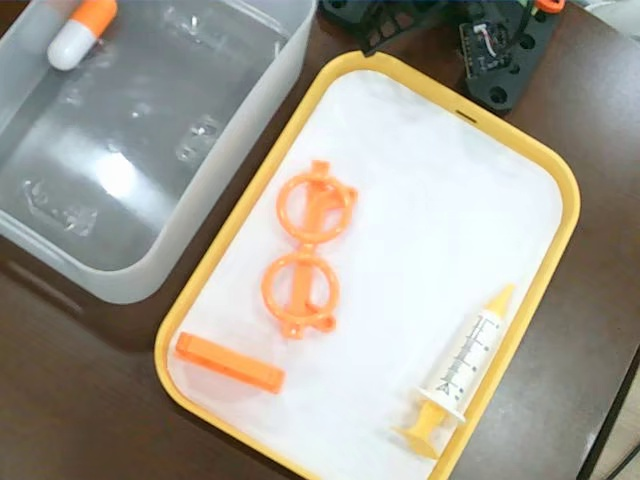pill: (47, 0, 120, 70)
syringe: (390, 278, 518, 457)
